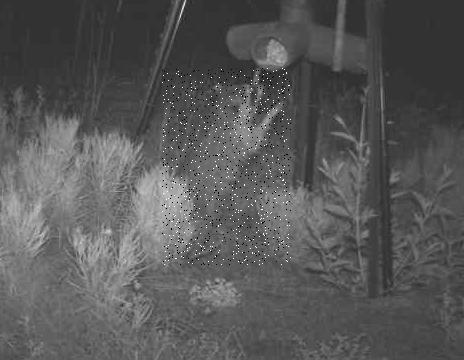Raccoon: (163, 69, 292, 266)
